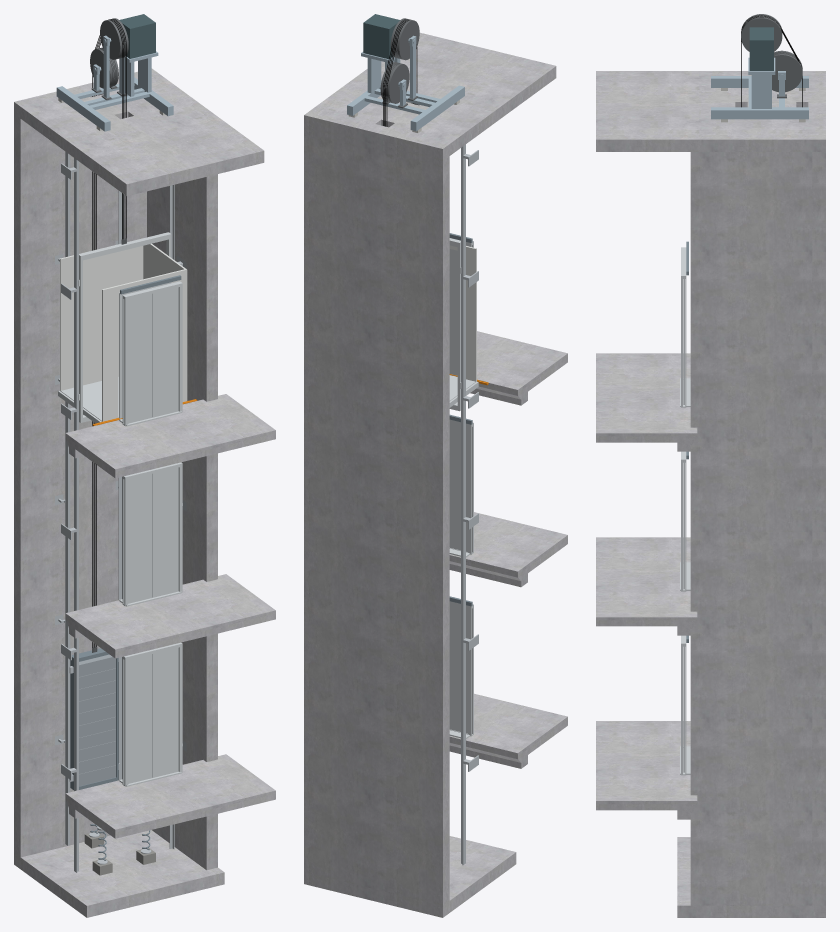
Rendered from elevator-composition-9a0264d4.glb.
3 views of the same model, side by side, from view 1: azimuth 30°, elevation 25°; view 2: azimuth 150°, elevation 25°; view 3: azimuth 270°, elevation 25° (orthographic). The views are drawn at different scales.
Visible parts, largest first — view 1: 井壁, 楼层平台, 层门与门框, 机房结构, 电梯轿厢, 底坑与缓冲器, 导轨和固定架, 曳引轮组, 对重及悬挂, 绳索; view 2: 井壁, 机房结构, 楼层平台, 曳引轮组, 层门与门框, 底坑与缓冲器, 导轨和固定架, 电梯轿厢, 绳索; view 3: 井壁, 楼层平台, 机房结构, 曳引轮组, 层门与门框, 底坑与缓冲器.
Boxes of the visible parts, x1,y1,x2,y2 form: 井壁: (14, 114, 217, 870); 楼层平台: (65, 394, 275, 838); 层门与门框: (119, 275, 182, 786); 机房结构: (14, 68, 264, 196); 电梯轿厢: (58, 232, 187, 423); 底坑与缓冲器: (14, 824, 224, 917); 导轨和固定架: (55, 144, 186, 872); 曳引轮组: (56, 14, 173, 652); 对重及悬挂: (69, 648, 120, 789); 绳索: (92, 19, 197, 647); 井壁: (304, 127, 449, 905); 机房结构: (304, 32, 556, 160); 楼层平台: (449, 331, 567, 768); 曳引轮组: (347, 14, 464, 132); 层门与门框: (449, 233, 473, 738); 底坑与缓冲器: (304, 836, 516, 917); 导轨和固定架: (461, 144, 478, 865); 电梯轿厢: (449, 238, 478, 411); 绳索: (383, 19, 488, 385); 井壁: (690, 152, 825, 905); 楼层平台: (596, 353, 697, 819); 机房结构: (596, 71, 825, 151); 曳引轮组: (711, 14, 808, 122); 层门与门框: (680, 241, 690, 775); 底坑与缓冲器: (677, 837, 825, 917).
Size of the model in its own units: 2.8 by 14.15 by 3.4.
Materials: 21 (4 with a texture image).
